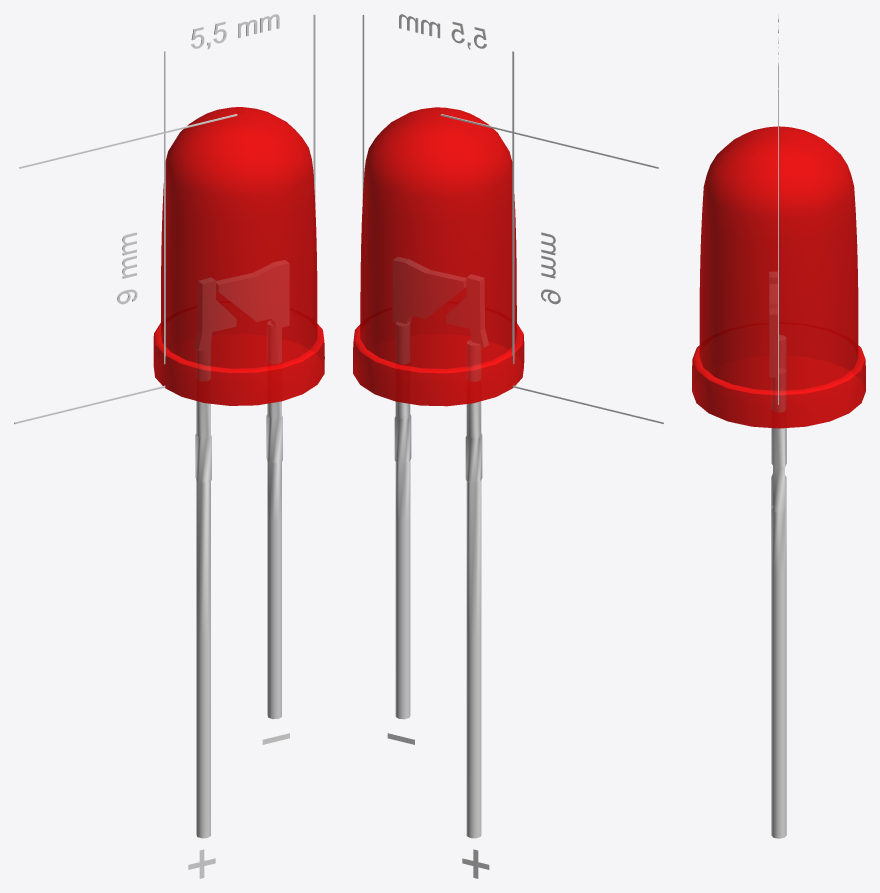
Rendered from led_light-emitting_diode.glb.
The picture shows the model from 3 angles, left to right: view 1: azimuth 30°, elevation 25°; view 2: azimuth 150°, elevation 25°; view 3: azimuth 270°, elevation 25°; orthographic projection.
Visible parts, largest first — view 1: lamp, katod&anod, Text001, Box006; view 2: lamp, katod&anod, Box006, Text001; view 3: lamp, katod&anod.
Part boxes in pixels (x1,y1,x2,y2): lamp: [153, 107, 324, 405]; katod&anod: [194, 260, 288, 838]; Text001: [191, 14, 279, 49]; Box006: [164, 51, 165, 364]; lamp: [353, 107, 524, 406]; katod&anod: [393, 257, 488, 838]; Box006: [512, 51, 514, 363]; Text001: [399, 14, 486, 49]; lamp: [692, 126, 865, 428]; katod&anod: [770, 272, 786, 838].
Bounding box in the file's own units: 0.9502 × 2.57 × 0.4707.
